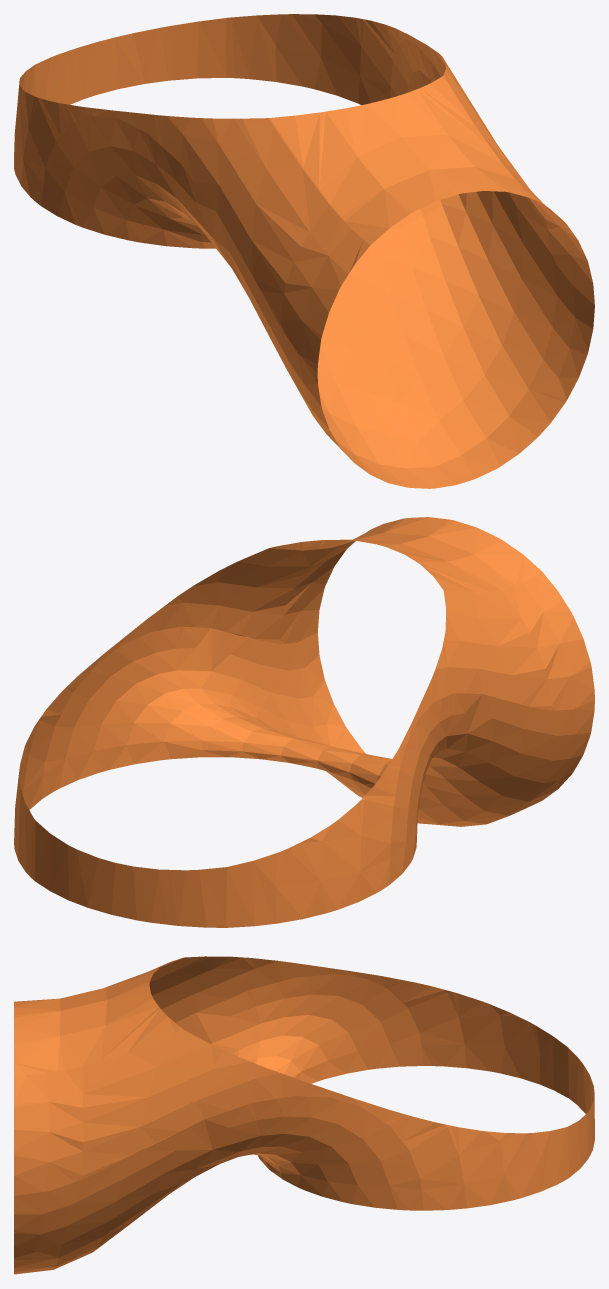
The model's file is kuka_URDF_link_3_vis_2.dae.
3 views of the same model, one above another, from view 1: azimuth 30°, elevation 25°; view 2: azimuth 150°, elevation 25°; view 3: azimuth 270°, elevation 25° (orthographic). The views are drawn at different scales.
Visible parts, largest first — view 1: Node_0000020FCC591400; view 2: Node_0000020FCC591400; view 3: Node_0000020FCC591400.
Boxes of the visible parts, <box> form: Node_0000020FCC591400: <box>14,14,594,488</box>; Node_0000020FCC591400: <box>14,517,594,927</box>; Node_0000020FCC591400: <box>14,956,594,1274</box>.
Bounding box in the file's own units: 0.171 × 0.1523 × 0.29.
